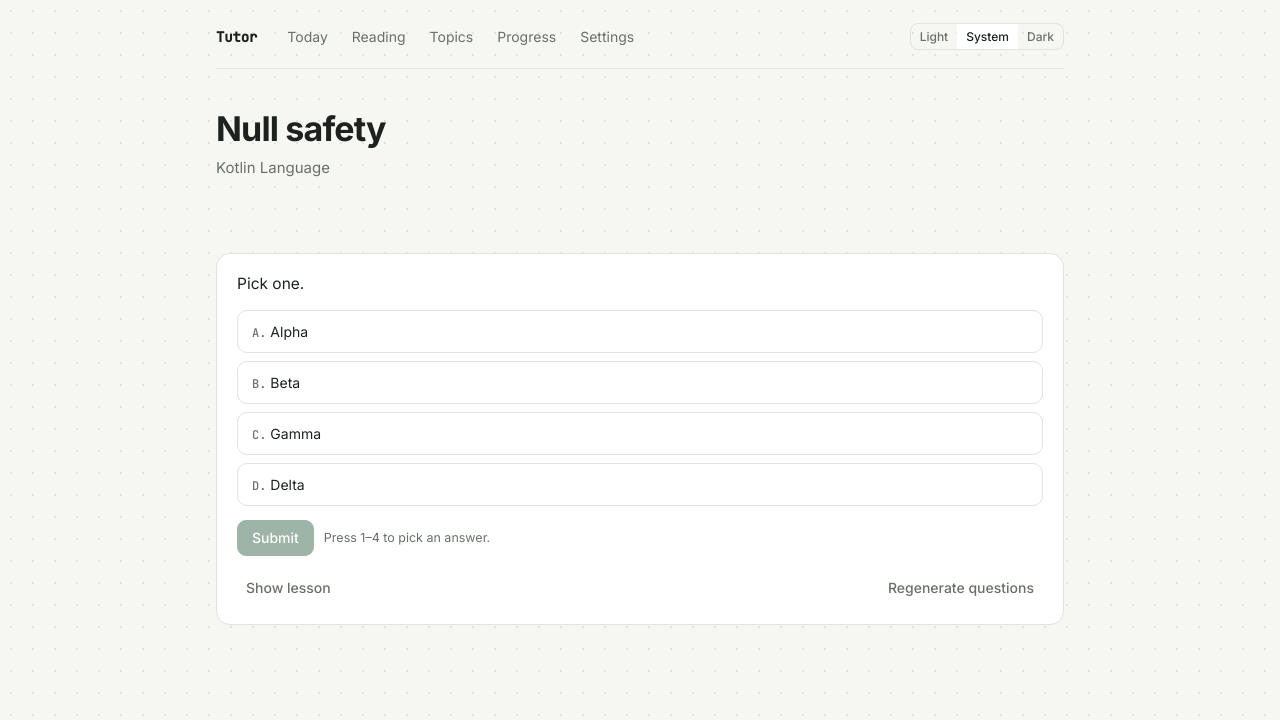
Test: mcq answers with number keys
This screenshot has width=1280, height=720.
Expected: the text "Pick one." is shown, left=237, top=274, right=304, bottom=293
Type keys "2"
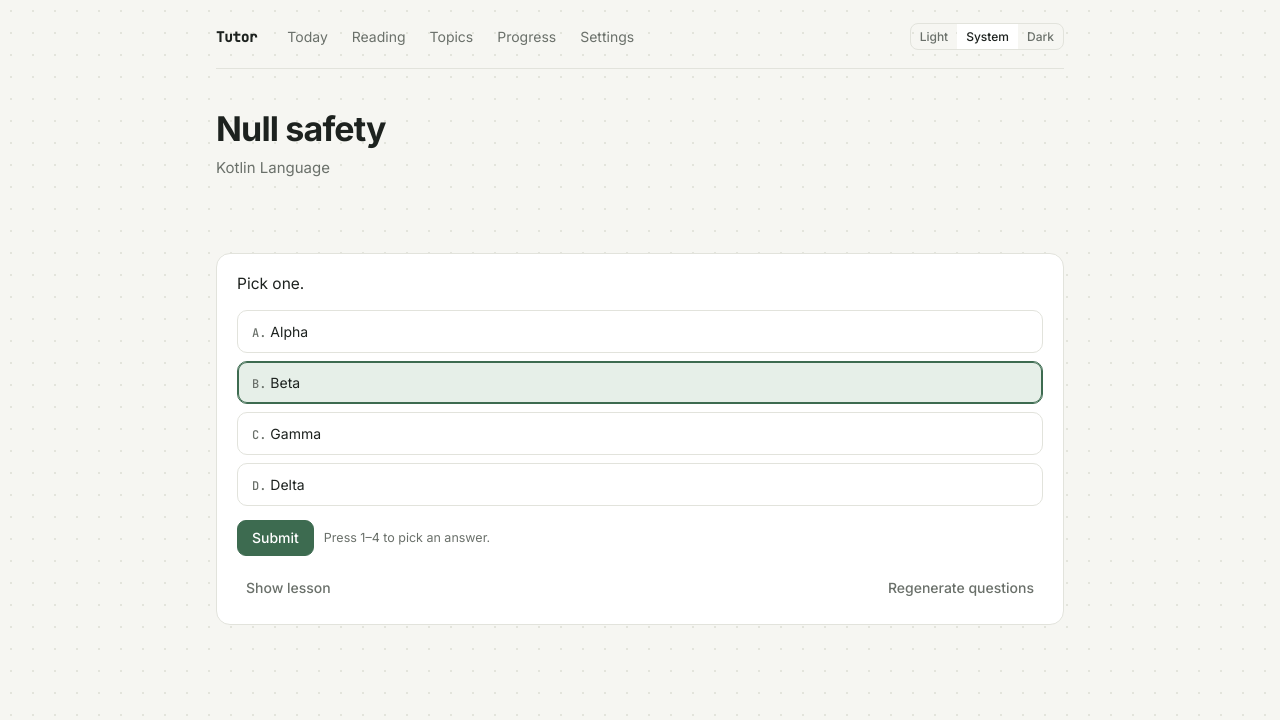
Now the button "B. Beta" is pressed, box left=237, top=361, right=1043, bottom=404
Click the button "Submit" at (275,538), box left=237, top=520, right=314, bottom=556
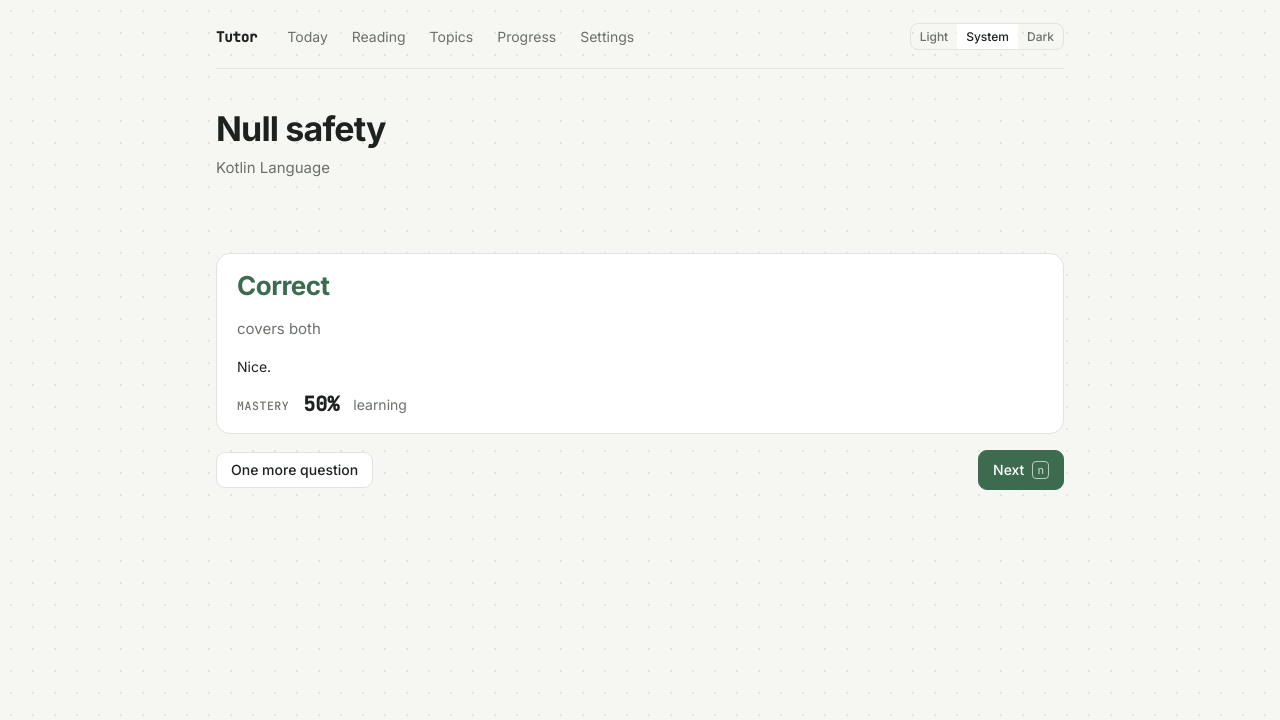
Now the text "Correct" is shown, box left=237, top=270, right=330, bottom=301
